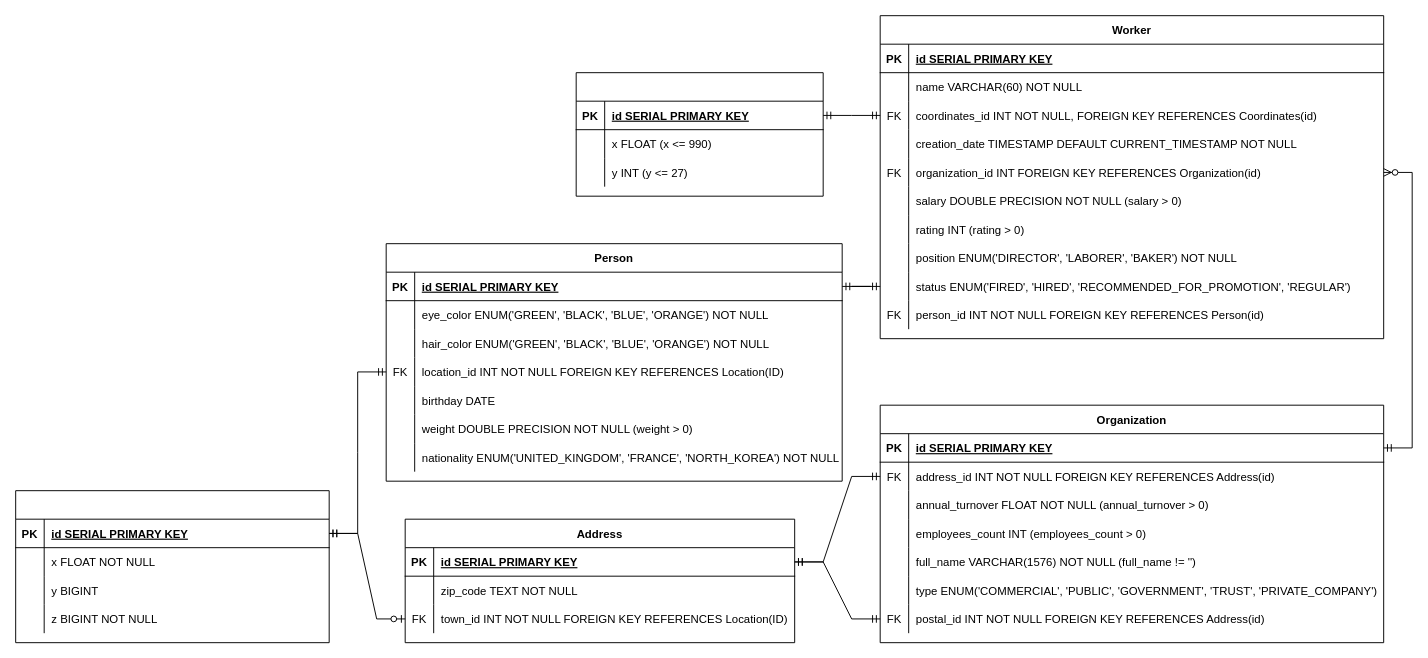
The diagram is 1428 pixels wide and 658 high, and some of its shapes have lost their labels. Here are the shapes that lost their labels. From the top down, the box of each, then its label:
(575, 72, 823, 196): Coordinates
(15, 490, 329, 643): Location
